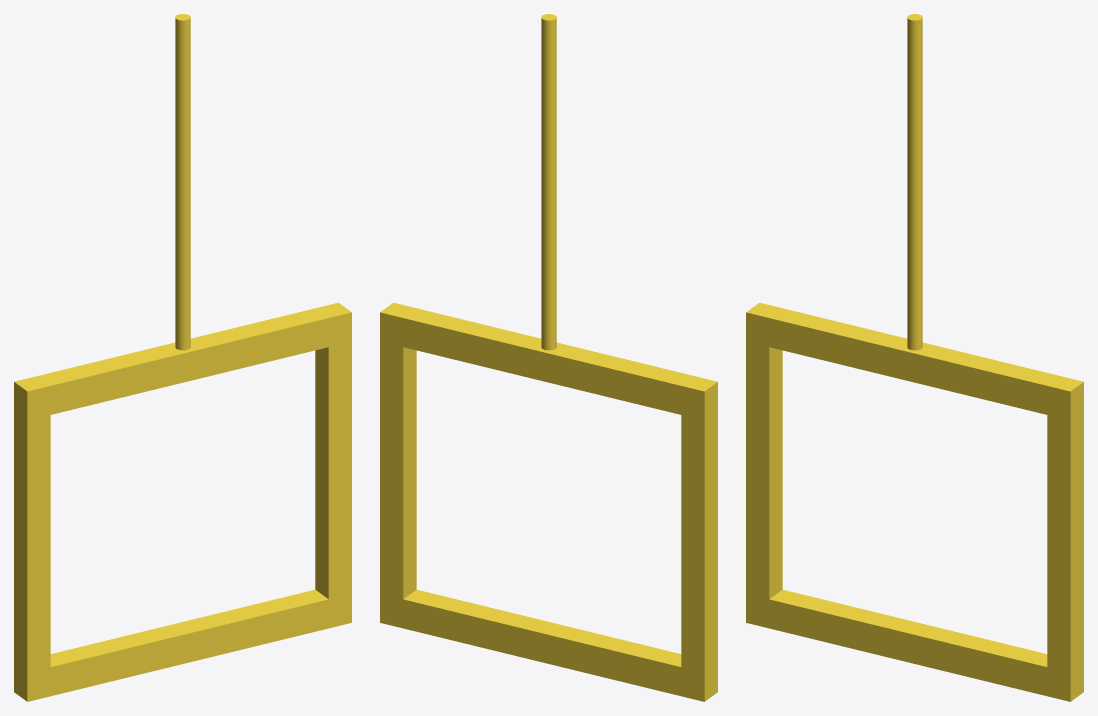
Rendered from Marco1.gltf.
3 renders of one model, left to right at view 1: azimuth 30°, elevation 25°; view 2: azimuth 150°, elevation 25°; view 3: azimuth 330°, elevation 25°, orthographic.
Parts seen in each view (by area): view 1: Part 2; view 2: Part 2; view 3: Part 2.
Part boxes in pixels (x1,y1,x2,y2): Part 2: (14,14,351,701); Part 2: (380,14,717,701); Part 2: (746,14,1083,701).
Size of the model in its own units: 0.035 by 0.066 by 0.0025.
